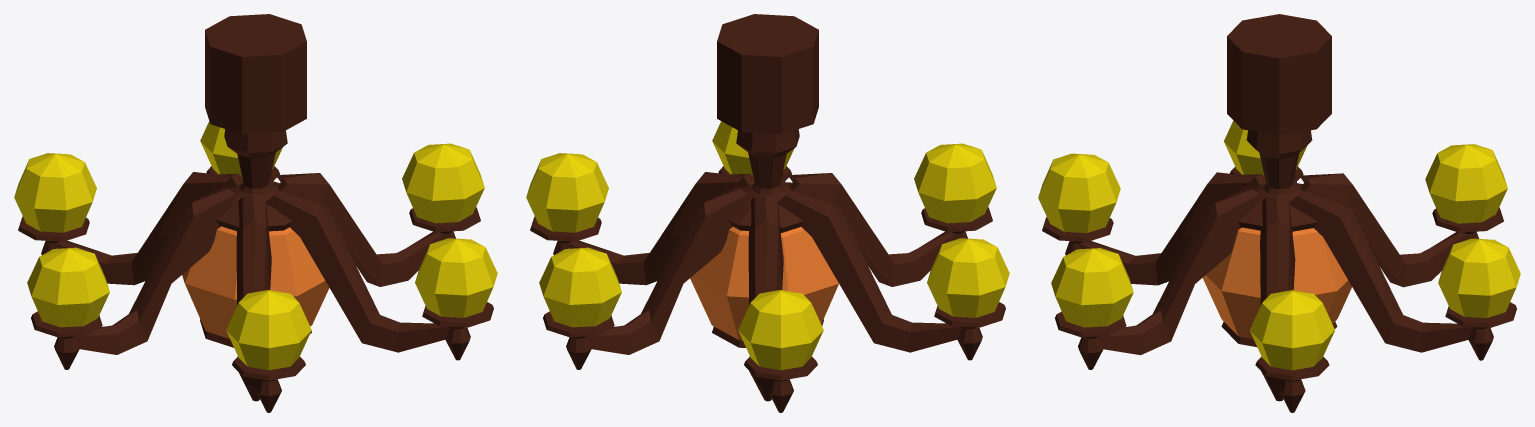
The model's file is shanderia.fbx.
The picture shows the model from 3 angles, left to right: view 1: azimuth 30°, elevation 25°; view 2: azimuth 150°, elevation 25°; view 3: azimuth 270°, elevation 25°; orthographic projection.
Visible parts, largest first — view 1: Shanderia; view 2: Shanderia; view 3: Shanderia.
Part boxes in pixels (x1=…): Shanderia: x1=14, y1=14, x2=497, y2=412; Shanderia: x1=526, y1=14, x2=1009, y2=412; Shanderia: x1=1038, y1=14, x2=1520, y2=412.
Bounding box in the file's own units: 649 × 489 × 588.
